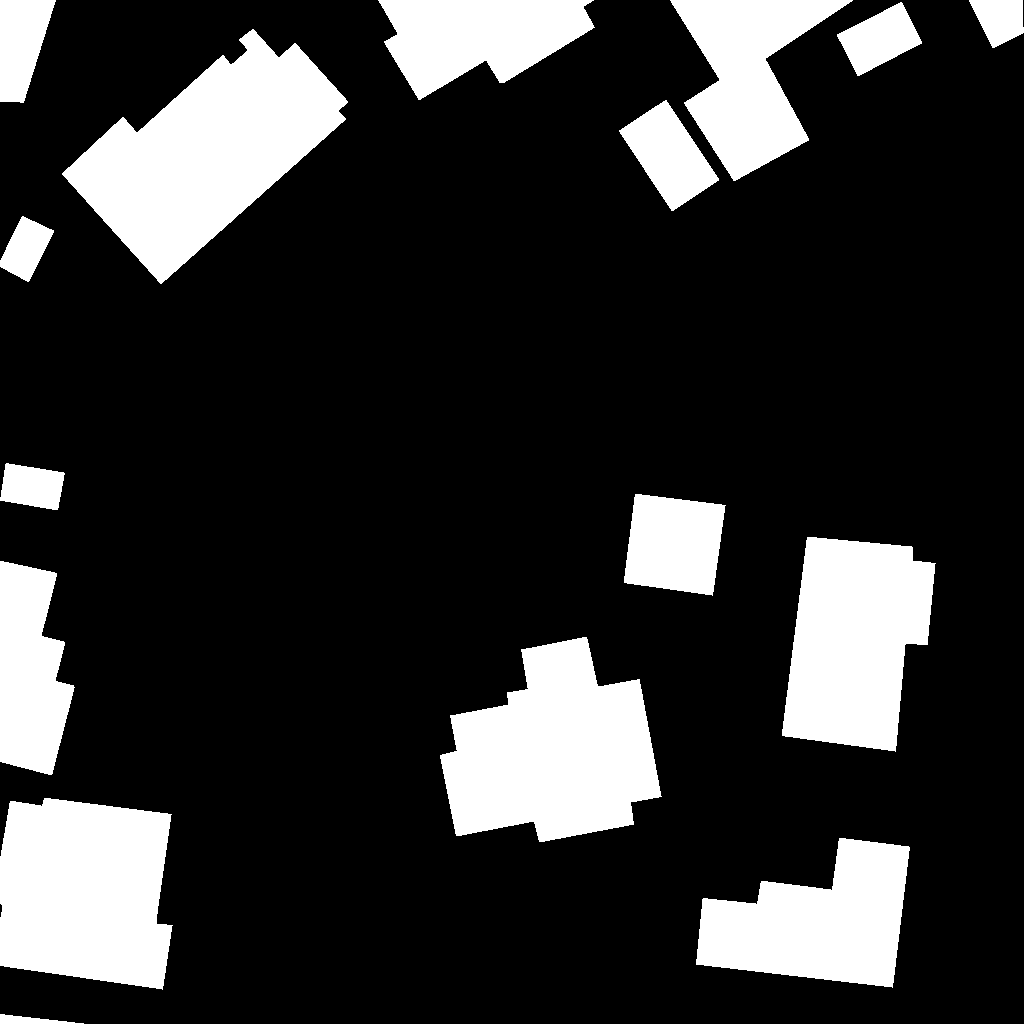building: (62, 29, 349, 285), (440, 637, 662, 843), (670, 0, 855, 182), (0, 798, 173, 990), (782, 537, 936, 752), (696, 838, 911, 988), (378, 0, 596, 101), (0, 561, 75, 776), (619, 100, 720, 212), (624, 494, 726, 596), (837, 2, 923, 77), (0, 0, 57, 103), (0, 216, 55, 283), (0, 463, 66, 511), (969, 0, 1024, 49), (0, 1014, 86, 1024), (257, 1022, 269, 1024)
